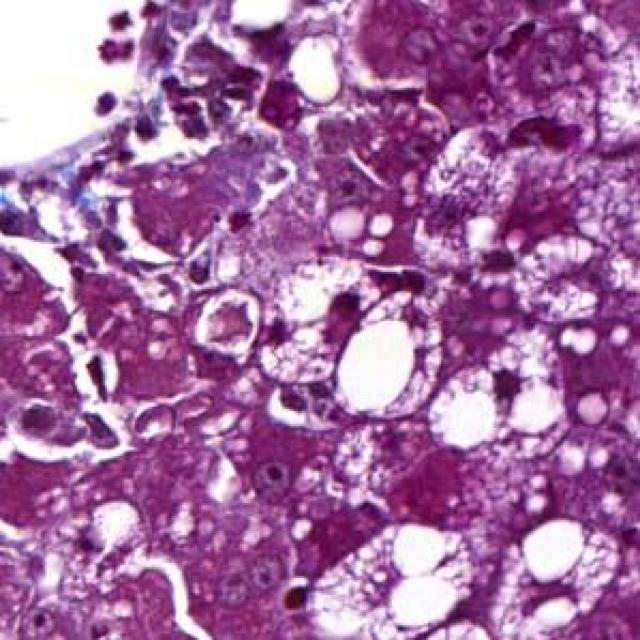ballooning: (257, 252, 445, 434), (304, 518, 477, 636), (488, 512, 627, 636)
